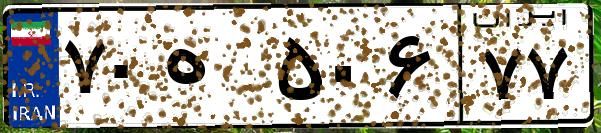0: (330, 28, 385, 110), (110, 28, 158, 98)
5: (270, 28, 330, 110)
6: (385, 28, 445, 110)
7: (57, 26, 110, 100), (475, 38, 525, 113), (525, 38, 570, 115)
ه: (158, 20, 270, 120)
